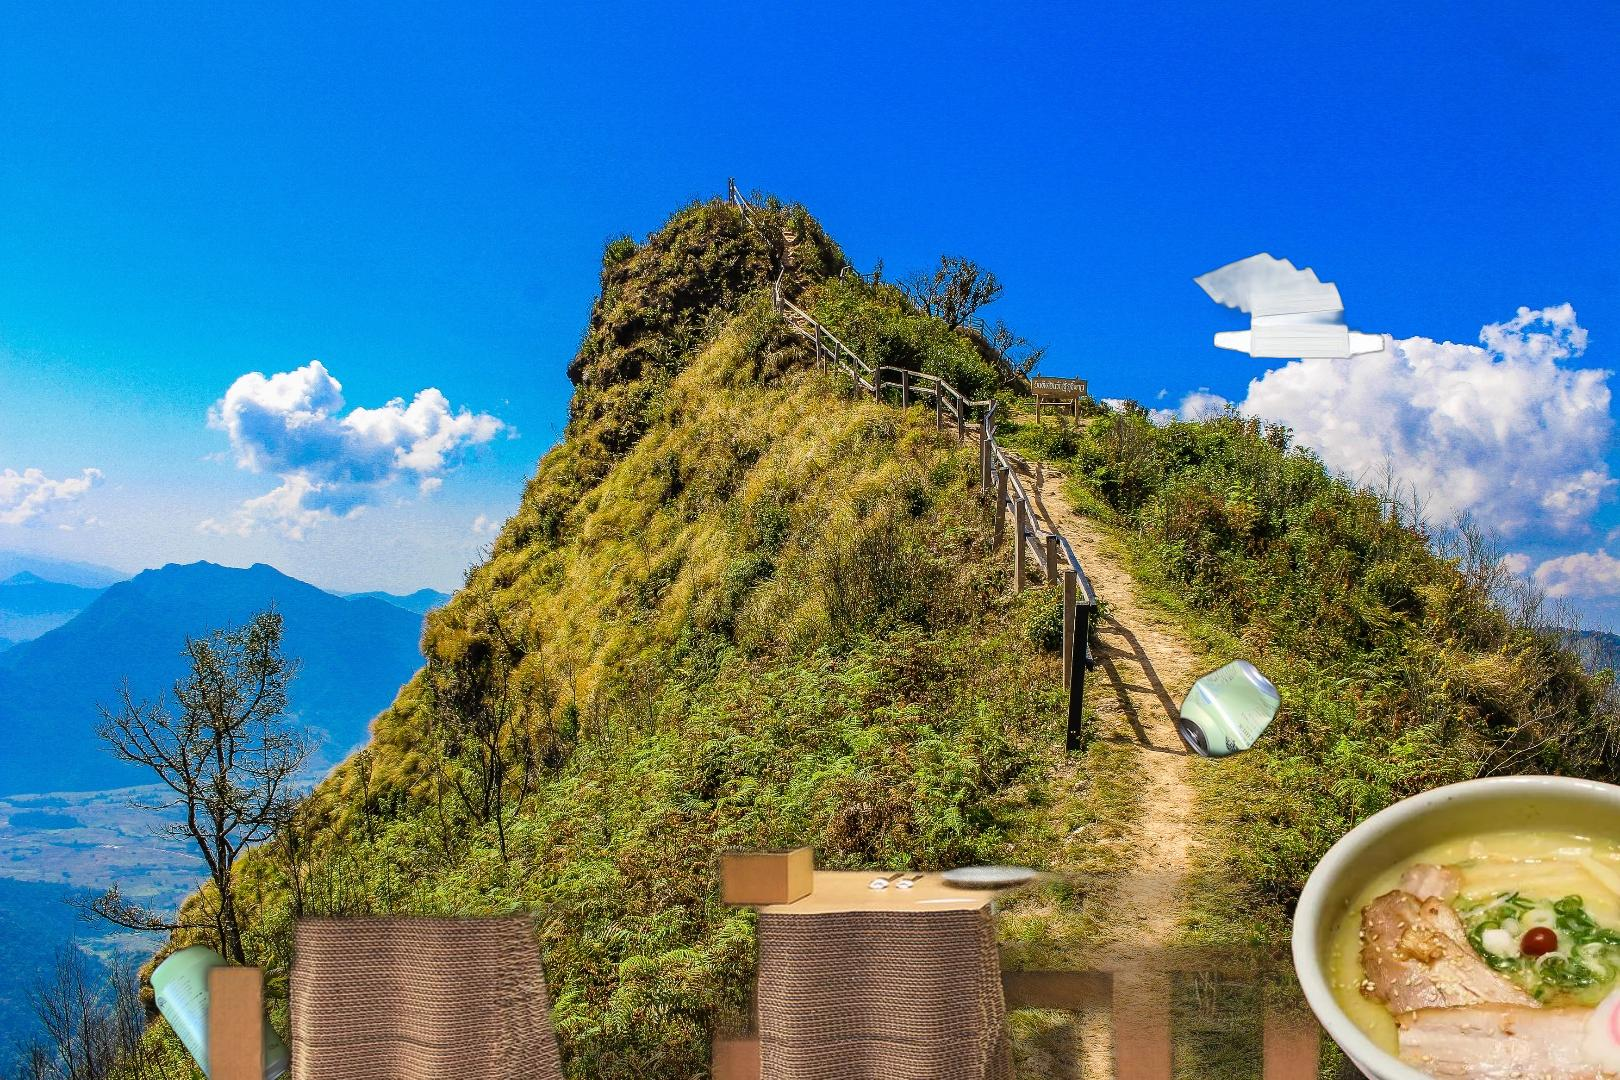biological: (1285, 771, 1620, 1080)
metal-cans: (945, 520, 1457, 1026), (146, 938, 294, 1080)
trash: (1188, 250, 1387, 366)
trashbox-cardboard: (83, 820, 1620, 1080)
